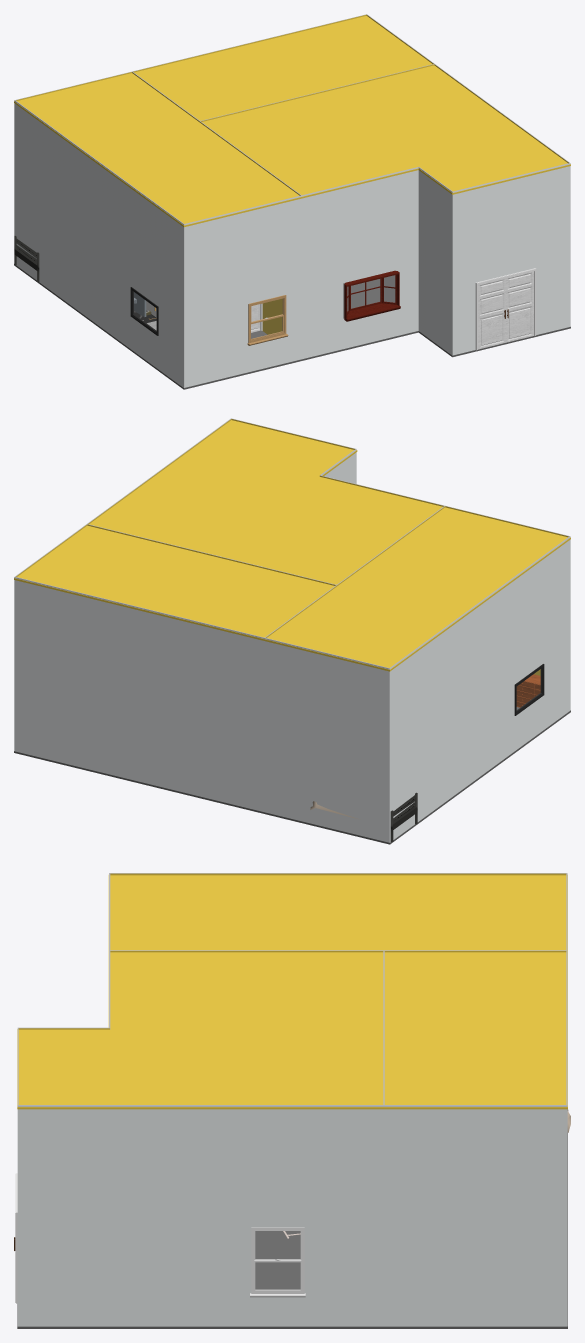
The model's file is ProcTHOR-Train-167.glb.
The picture shows the model from 3 angles, top to bottom: view 1: azimuth 30°, elevation 25°; view 2: azimuth 150°, elevation 25°; view 3: azimuth 270°, elevation 25°; orthographic projection. The views are drawn at different scales.
Parts seen in each view (by area): view 1: Ceiling#room|6|c, WallInside#wall|exterior|11.50|0.00|11.50|9.59, Ceiling#room|2|c, WallInside#wall|exterior|7.67|9.59|11.50|9.59, WallInside#wall|exterior|3.83|9.59|7.67|9.59, WallInside#wall|exterior|0.00|11.50|3.83|11.50, Ceiling#room|7|c, WallInside#wall|exterior|3.83|9.59|3.83|11.50, Doorway_Door_8b, Doorway_Door_8a, Floor#room|6|f, Window_Bay_2 (+5 smaller); view 2: WallInside#wall|exterior|0.00|0.00|7.67|0.00, Ceiling#room|6|c, WallInside#wall|exterior|11.50|0.00|11.50|9.59, Ceiling#room|2|c, WallInside#wall|exterior|7.67|0.00|11.50|0.00, Ceiling#room|7|c, Floor#room|2|f, Bed_7, WallInside#wall|exterior|3.83|9.59|3.83|11.50, Floor#room|7|f, Dresser_319_2; view 3: WallInside#wall|exterior|0.00|3.83|0.00|11.50, Ceiling#room|6|c, WallInside#wall|exterior|0.00|0.00|0.00|3.83, Ceiling#room|2|c, Ceiling#room|7|c, Floor#room|6|f, Window_Hung_44x60, WallInside#wall|2|11.50|0.00|11.50|9.59, WallInside#wall|6|7.67|3.83|7.67|9.59, Floor#room|7|f.
Part boxes in pixels (<box>): Ceiling#room|6|c: <box>200,65,570,198</box>; WallInside#wall|exterior|11.50|0.00|11.50|9.59: <box>14,100,183,387</box>; Ceiling#room|2|c: <box>14,73,302,227</box>; WallInside#wall|exterior|7.67|9.59|11.50|9.59: <box>184,195,301,387</box>; WallInside#wall|exterior|3.83|9.59|7.67|9.59: <box>301,167,418,359</box>; WallInside#wall|exterior|0.00|11.50|3.83|11.50: <box>452,163,570,355</box>; Ceiling#room|7|c: <box>134,16,432,120</box>; WallInside#wall|exterior|3.83|9.59|3.83|11.50: <box>418,167,452,355</box>; Doorway_Door_8b: <box>506,271,533,342</box>; Doorway_Door_8a: <box>478,278,505,349</box>; Floor#room|6|f: <box>263,270,570,360</box>; Window_Bay_2: <box>344,270,400,321</box>; WallInside#wall|exterior|0.00|0.00|7.67|0.00: <box>14,577,264,812</box>; Ceiling#room|6|c: <box>89,420,443,585</box>; WallInside#wall|exterior|11.50|0.00|11.50|9.59: <box>390,536,570,842</box>; Ceiling#room|2|c: <box>263,507,570,671</box>; WallInside#wall|exterior|7.67|0.00|11.50|0.00: <box>264,638,389,842</box>; Ceiling#room|7|c: <box>14,525,334,640</box>; Floor#room|2|f: <box>263,707,570,844</box>; Bed_7: <box>310,792,417,842</box>; WallInside#wall|exterior|3.83|9.59|3.83|11.50: <box>321,449,356,483</box>; Floor#room|7|f: <box>14,751,264,813</box>; Dresser_319_2: <box>516,674,540,707</box>; WallInside#wall|exterior|0.00|3.83|0.00|11.50: <box>17,1105,384,1326</box>; Ceiling#room|6|c: <box>17,952,384,1109</box>; WallInside#wall|exterior|0.00|0.00|0.00|3.83: <box>383,1105,567,1326</box>; Ceiling#room|2|c: <box>108,875,567,952</box>; Ceiling#room|7|c: <box>383,952,567,1109</box>; Floor#room|6|f: <box>17,1231,384,1328</box>; Window_Hung_44x60: <box>250,1227,305,1297</box>; WallInside#wall|2|11.50|0.00|11.50|9.59: <box>110,873,566,875</box>; WallInside#wall|6|7.67|3.83|7.67|9.59: <box>110,950,383,952</box>; Floor#room|7|f: <box>384,1172,567,1328</box>.
Size of what is drawn, in the model's own units: 11.67 by 5.16 by 11.67.
Materials: 310 (127 with a texture image).
